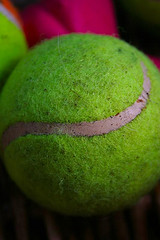tennis ball: (1, 32, 160, 219)
